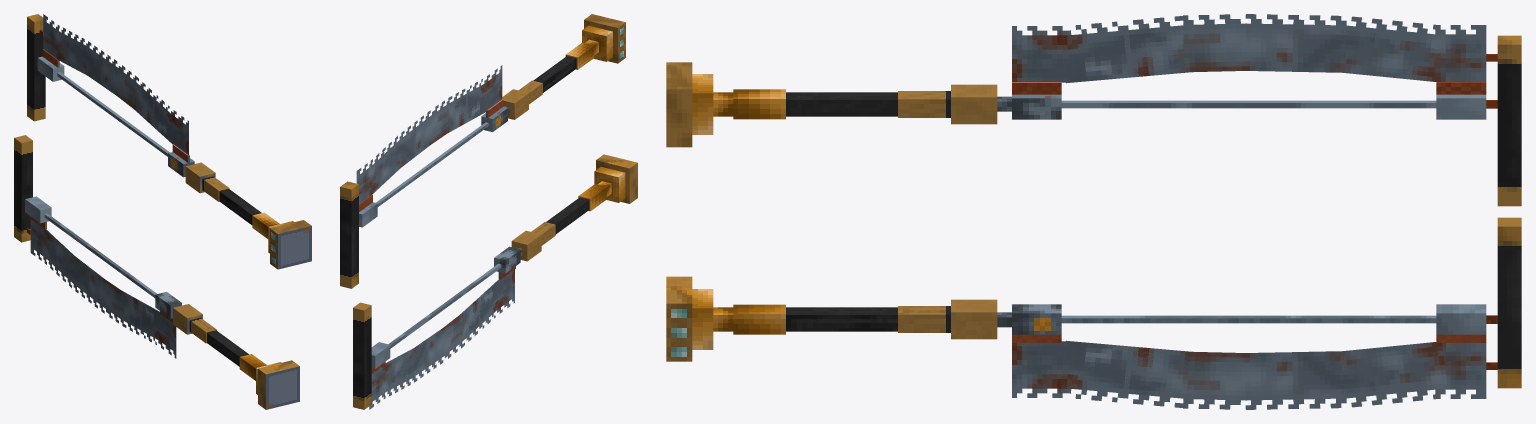
The model's file is bonecutting_saw.glb.
3 renders of one model, left to right at view 1: azimuth 30°, elevation 25°; view 2: azimuth 150°, elevation 25°; view 3: azimuth 270°, elevation 25°, orthographic. The views are drawn at different scales.
Visible parts, largest first — view 1: main__Tool_R, off__Tool_L; view 2: off__Tool_L, main__Tool_R; view 3: main__Tool_R, off__Tool_L.
Part boxes in pixels (<box>): main__Tool_R: <box>14,135,299,409</box>; off__Tool_L: <box>27,14,311,269</box>; off__Tool_L: <box>340,14,625,288</box>; main__Tool_R: <box>353,154,637,409</box>; main__Tool_R: <box>666,217,1521,409</box>; off__Tool_L: <box>666,14,1521,206</box>.
Size of the model in its own units: 0.36 by 1.87 by 3.58.
Materials: 1 (1 with a texture image).
